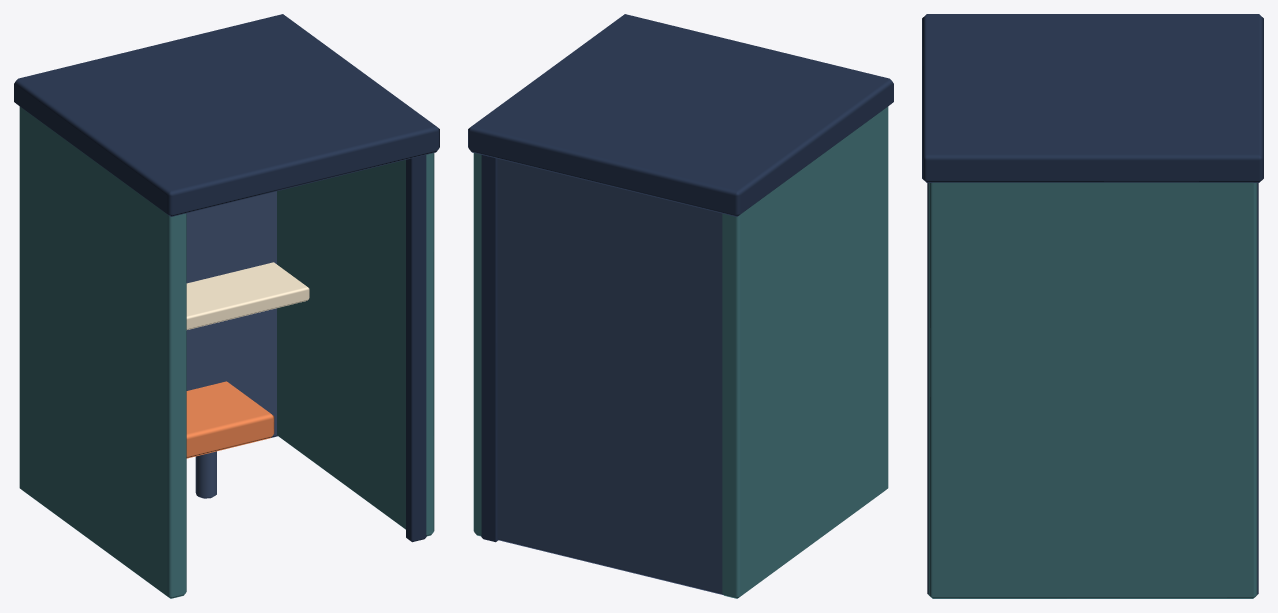
The model's file is phone_booth.glb.
3 views of the same model, side by side, from view 1: azimuth 30°, elevation 25°; view 2: azimuth 150°, elevation 25°; view 3: azimuth 270°, elevation 25° (orthographic). The views are drawn at different scales.
Parts seen in each view (by area): view 1: phone_booth; view 2: phone_booth; view 3: phone_booth.
Boxes of the visible parts, x1=… form: phone_booth: x1=14, y1=14, x2=439, y2=598; phone_booth: x1=468, y1=14, x2=893, y2=598; phone_booth: x1=922, y1=14, x2=1263, y2=598.
Bounding box in the file's own units: 1.83 × 2.64 × 1.83.
